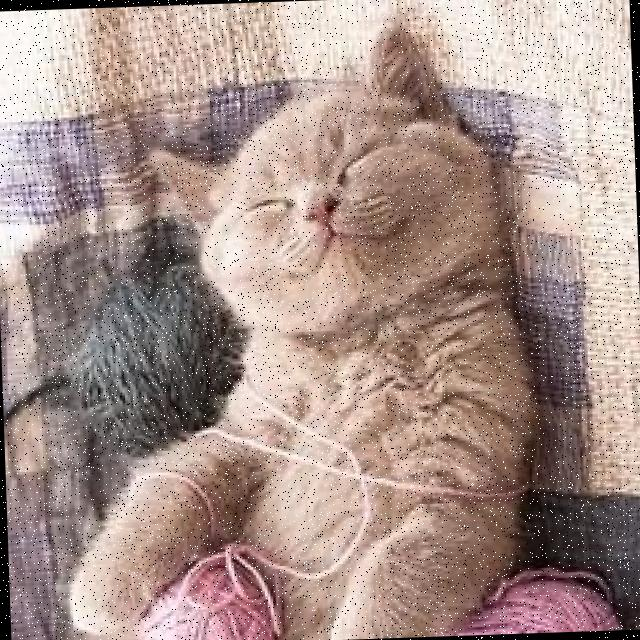Happy: (189, 125, 460, 318)
